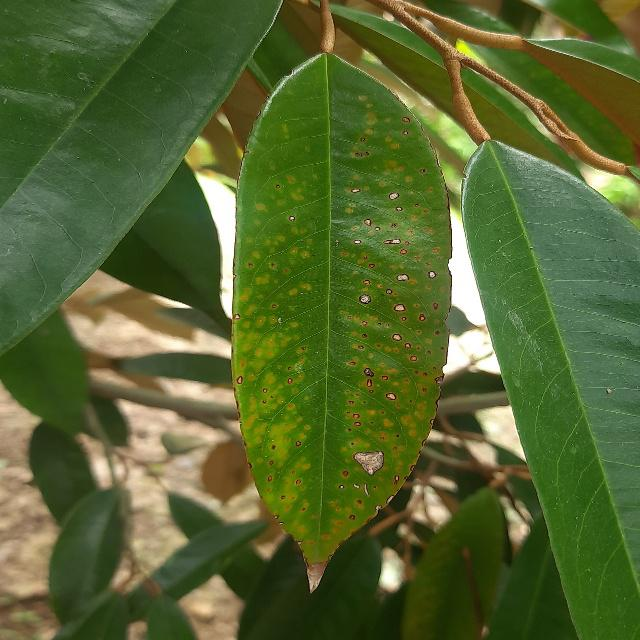Leaf Spot: (219, 41, 463, 597)
